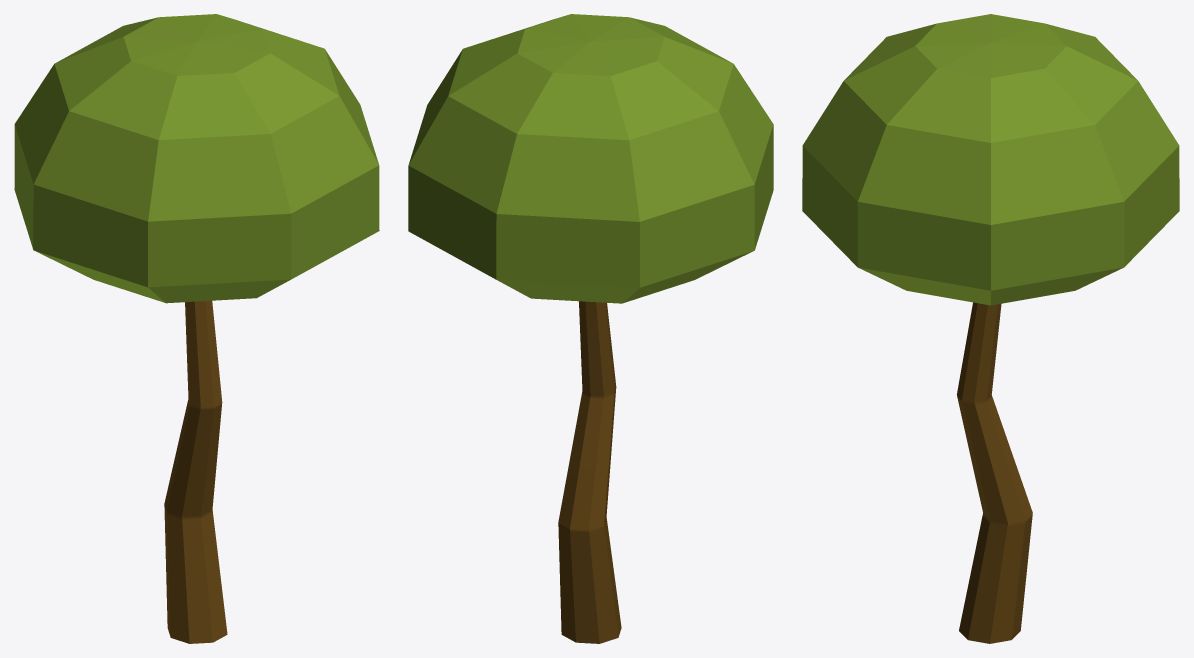
Rendered from Tree.fbx.
The picture shows the model from 3 angles, left to right: view 1: azimuth 30°, elevation 25°; view 2: azimuth 150°, elevation 25°; view 3: azimuth 270°, elevation 25°; orthographic projection.
Parts seen in each view (by area): view 1: pSphere4; view 2: pSphere4; view 3: pSphere4.
Part boxes in pixels (x1,y1,x2,y2): pSphere4: [14, 14, 379, 643]; pSphere4: [408, 14, 773, 643]; pSphere4: [802, 14, 1179, 643].
Size of the model in its own units: 1124 by 1933 by 1124.
